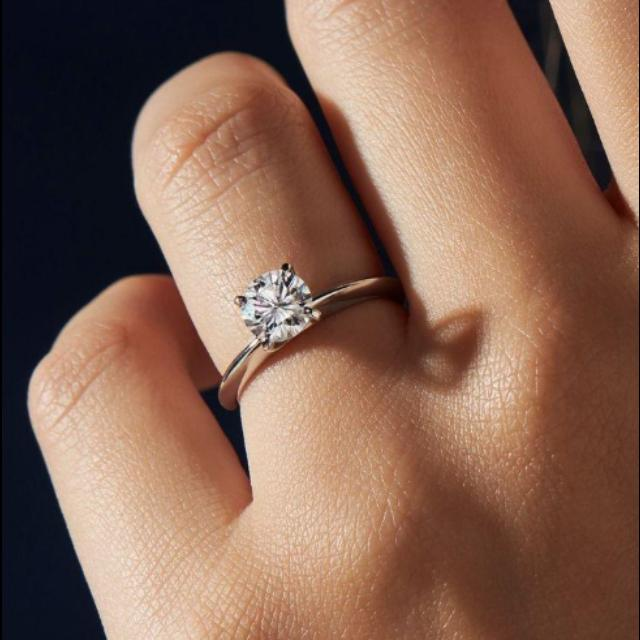ring: (205, 251, 383, 411)
